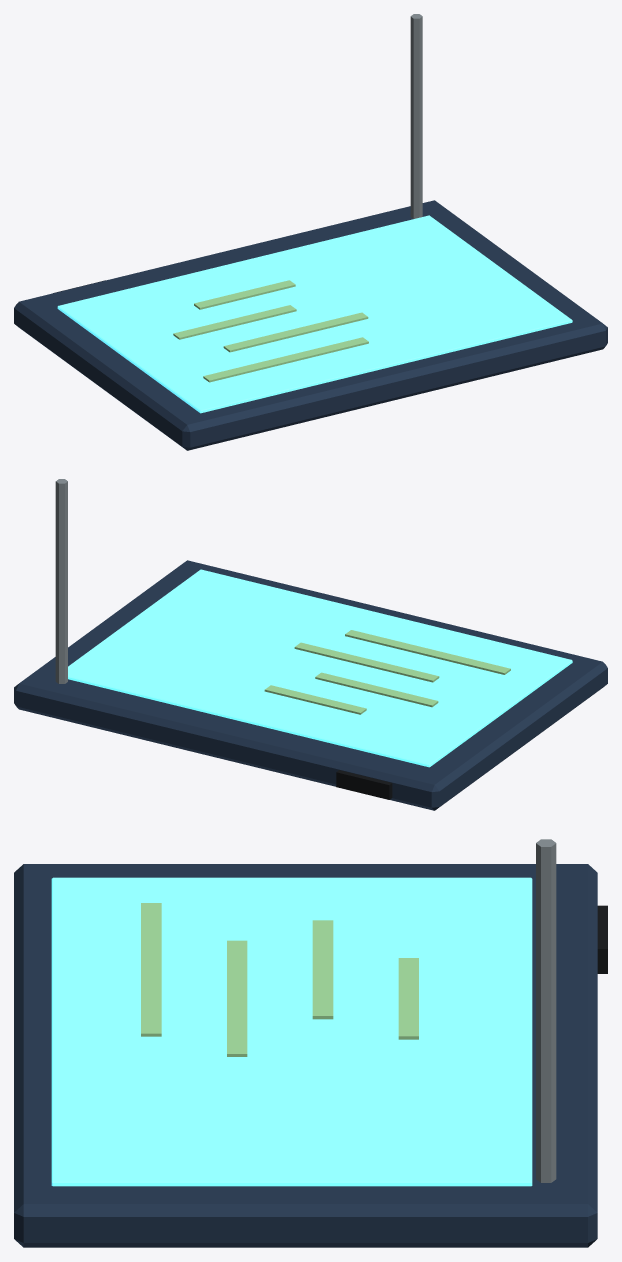
The model's file is Tool_HackingTablet.fbx.
The picture shows the model from 3 angles, top to bottom: view 1: azimuth 30°, elevation 25°; view 2: azimuth 150°, elevation 25°; view 3: azimuth 270°, elevation 25°; orthographic projection. The views are drawn at different scales.
Visible parts, largest first — view 1: Screen, Tablet, Antenna, Code, Code.001, Code.002, Code.003; view 2: Screen, Tablet, Antenna, Code, Code.001, Port.002, Code.002, Code.003; view 3: Screen, Tablet, Antenna, Code, Code.001, Code.002, Code.003, Port.002.
Part boxes in pixels (x1,y1,x2,y2): Screen: (57, 215, 572, 413); Tablet: (14, 200, 607, 450); Antenna: (410, 14, 422, 218); Code: (203, 337, 368, 382); Code.001: (223, 312, 368, 352); Code.002: (173, 305, 296, 339); Code.003: (194, 280, 295, 309); Screen: (68, 569, 572, 767); Tablet: (14, 560, 607, 810); Antenna: (55, 479, 67, 683); Code: (345, 630, 510, 674); Code.001: (294, 642, 439, 682); Port.002: (336, 770, 392, 799); Code.002: (315, 672, 438, 707); Code.003: (264, 685, 366, 714); Screen: (51, 877, 532, 1186); Tablet: (14, 864, 597, 1247); Antenna: (536, 839, 556, 1182); Code: (141, 903, 161, 1036); Code.001: (227, 940, 247, 1056); Code.002: (312, 920, 333, 1019); Code.003: (398, 958, 418, 1039); Port.002: (597, 905, 607, 973).
Bounding box in the file's own units: 0.24 × 0.122 × 0.173.
